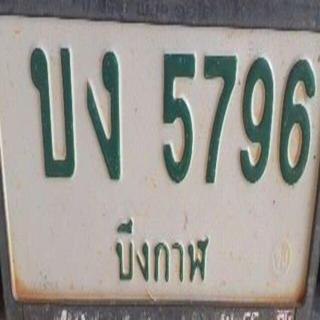A07: (80, 41, 129, 187)
A26: (22, 37, 80, 183)
N05: (152, 43, 196, 185)
N06: (277, 55, 316, 187)
N07: (199, 47, 239, 188)
N09: (236, 49, 276, 185)
P05: (107, 218, 215, 287)
